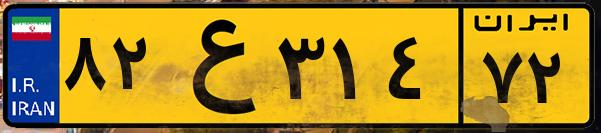1: (330, 28, 385, 110)
2: (525, 38, 570, 115), (110, 28, 158, 98)
3: (270, 28, 330, 110)
4: (385, 28, 445, 110)
7: (475, 38, 525, 113)
8: (57, 26, 110, 100)
ع: (158, 12, 270, 120)
